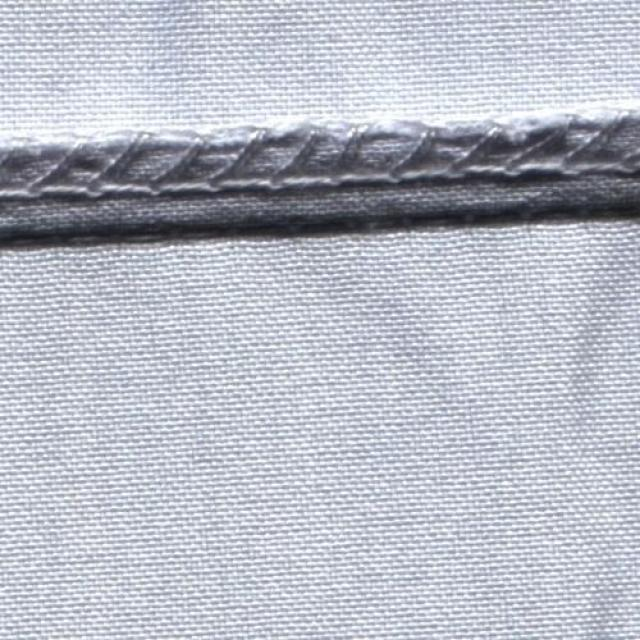gray stitch: (0, 106, 636, 249)
